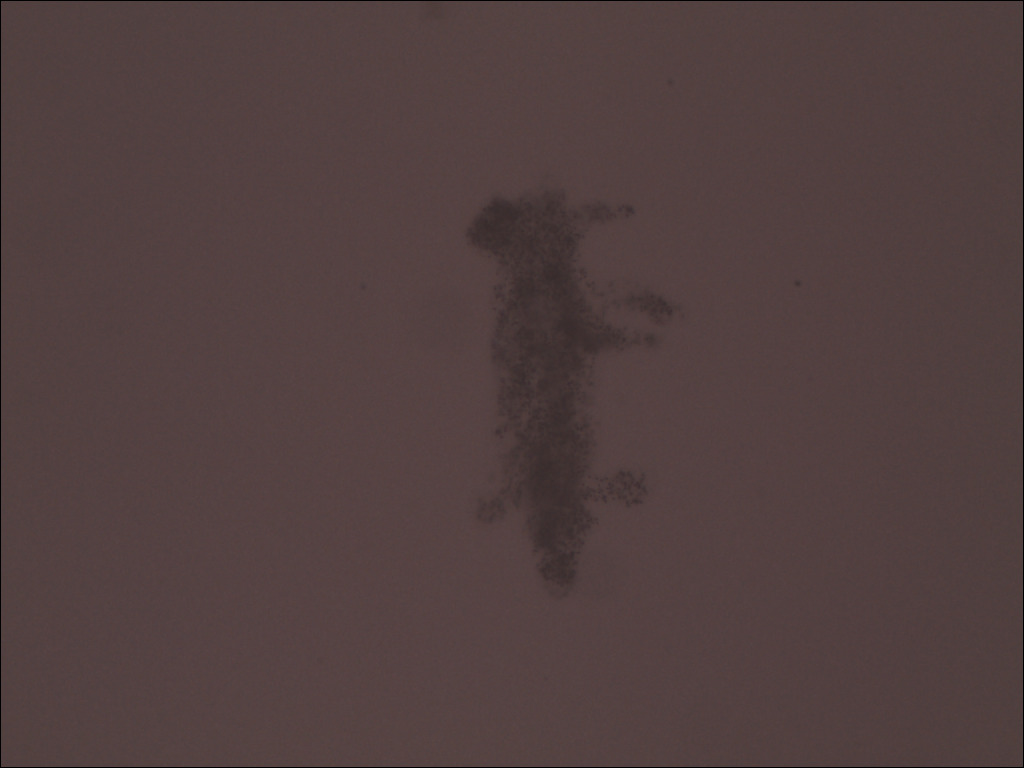amoeba: (447, 169, 708, 618)
